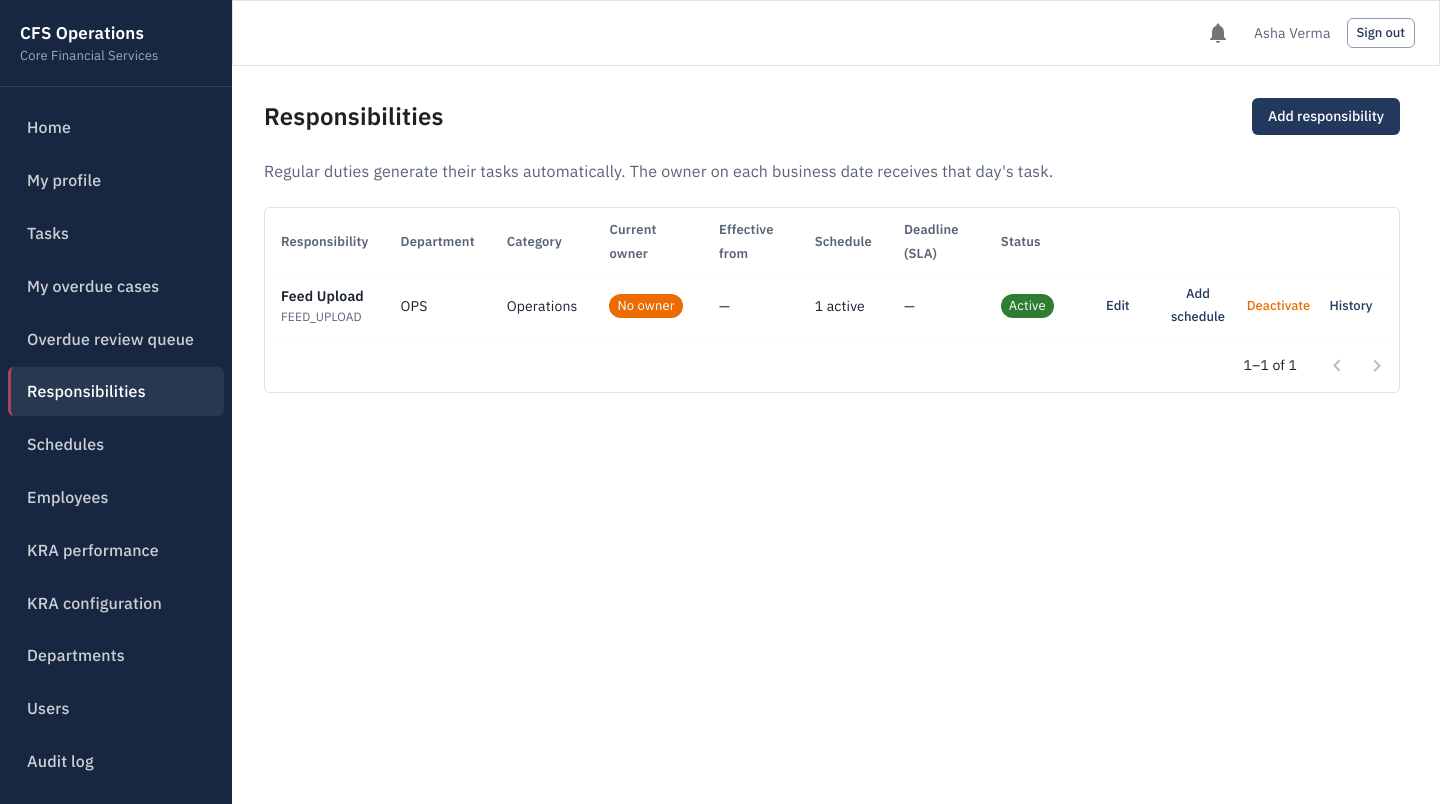
Responsibility deactivation (Change Set 1) › shows the backend's refusal in the confirmation dialog
Click the button "Deactivate": (1278, 306) [1246,279,1311,333]
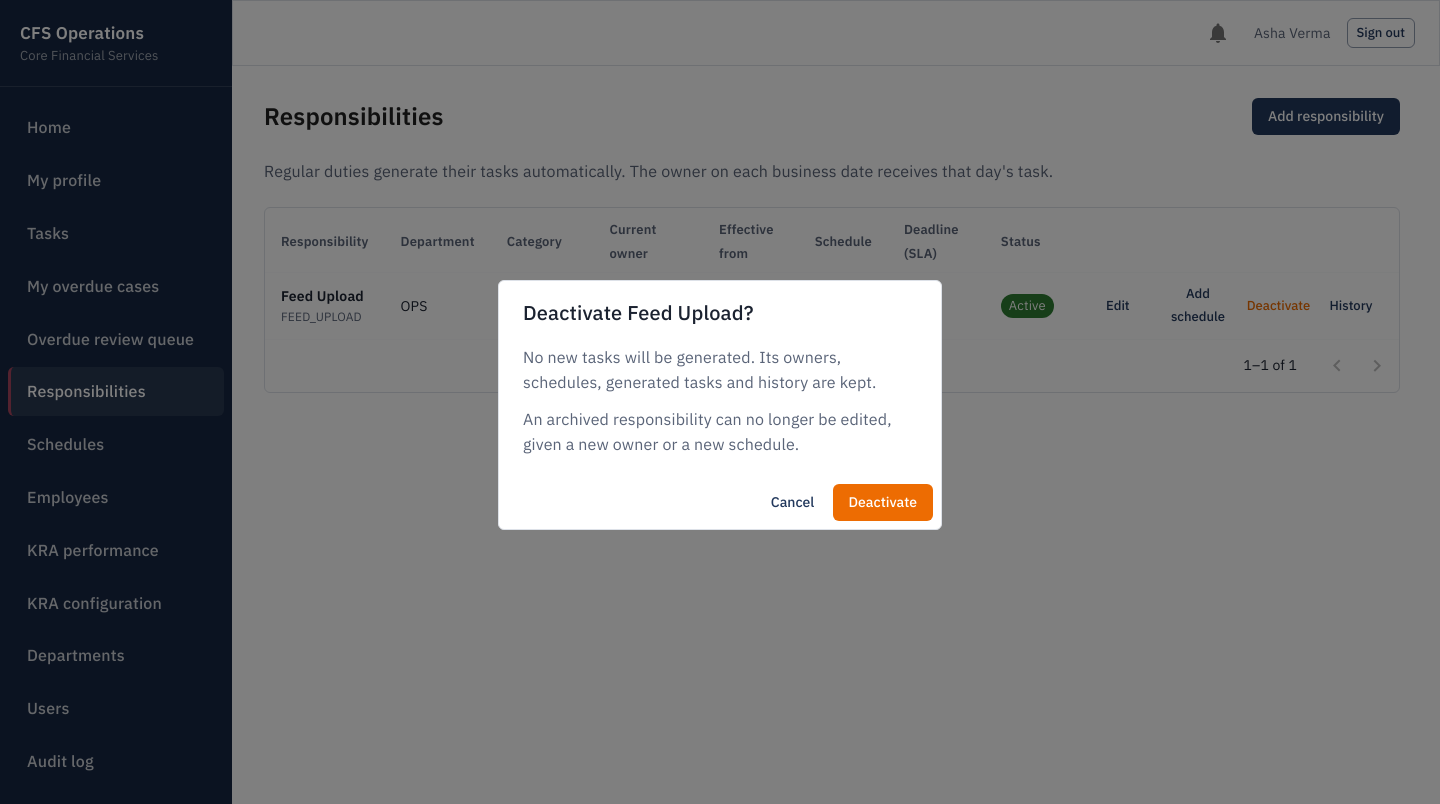
Click the button "Deactivate": (883, 503) [832,484,933,521]
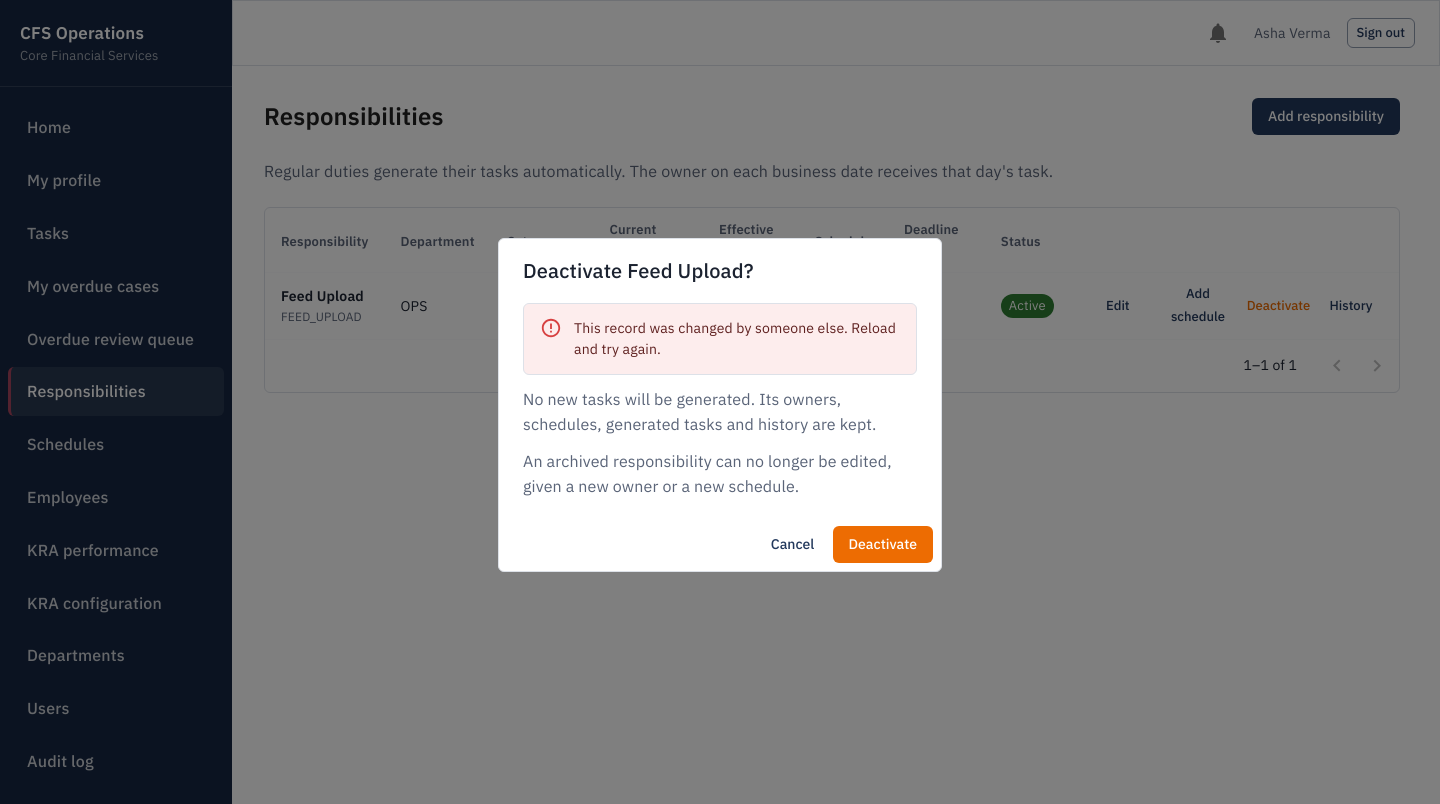
Result: the text "This record was changed by someone else. Reload and try again." is shown at [574,310,900,368]
